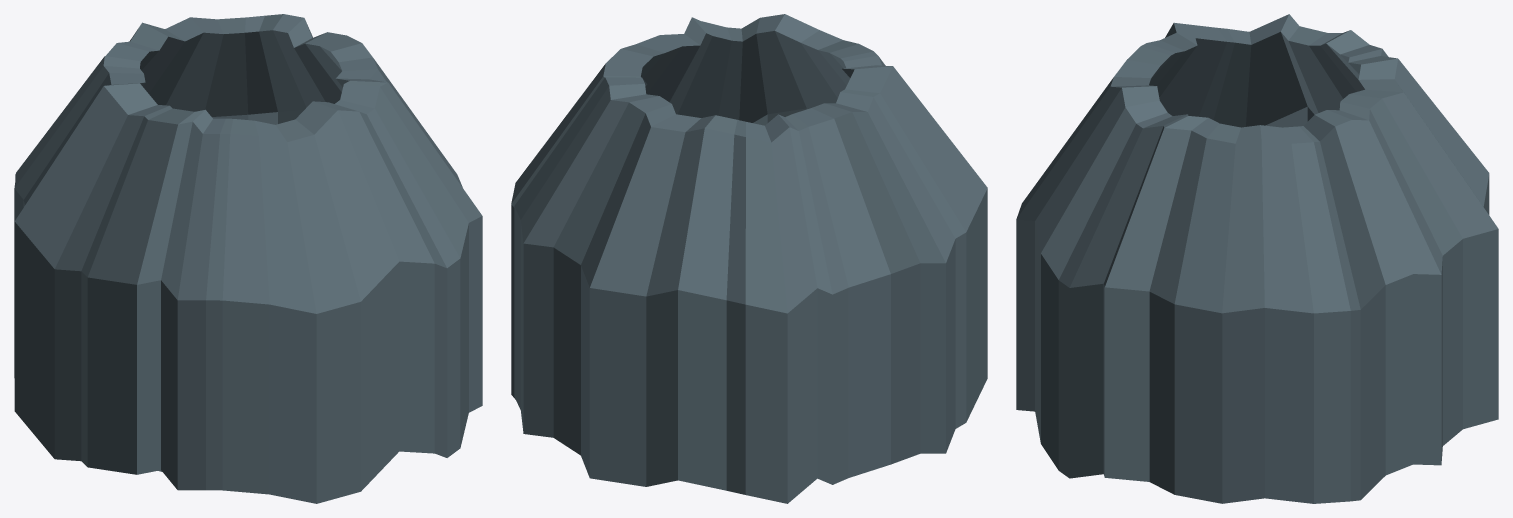
The model's file is env1.fbx.
3 renders of one model, left to right at view 1: azimuth 30°, elevation 25°; view 2: azimuth 150°, elevation 25°; view 3: azimuth 270°, elevation 25°, orthographic.
Parts seen in each view (by area): view 1: Plane; view 2: Plane; view 3: Plane.
Boxes of the visible parts, x1,y1,x2,y2 form: Plane: (14,14,482,503); Plane: (511,14,987,503); Plane: (1016,14,1498,503).
Bounding box in the file's own units: 301 × 251 × 311.
1 material, 1 textured.
